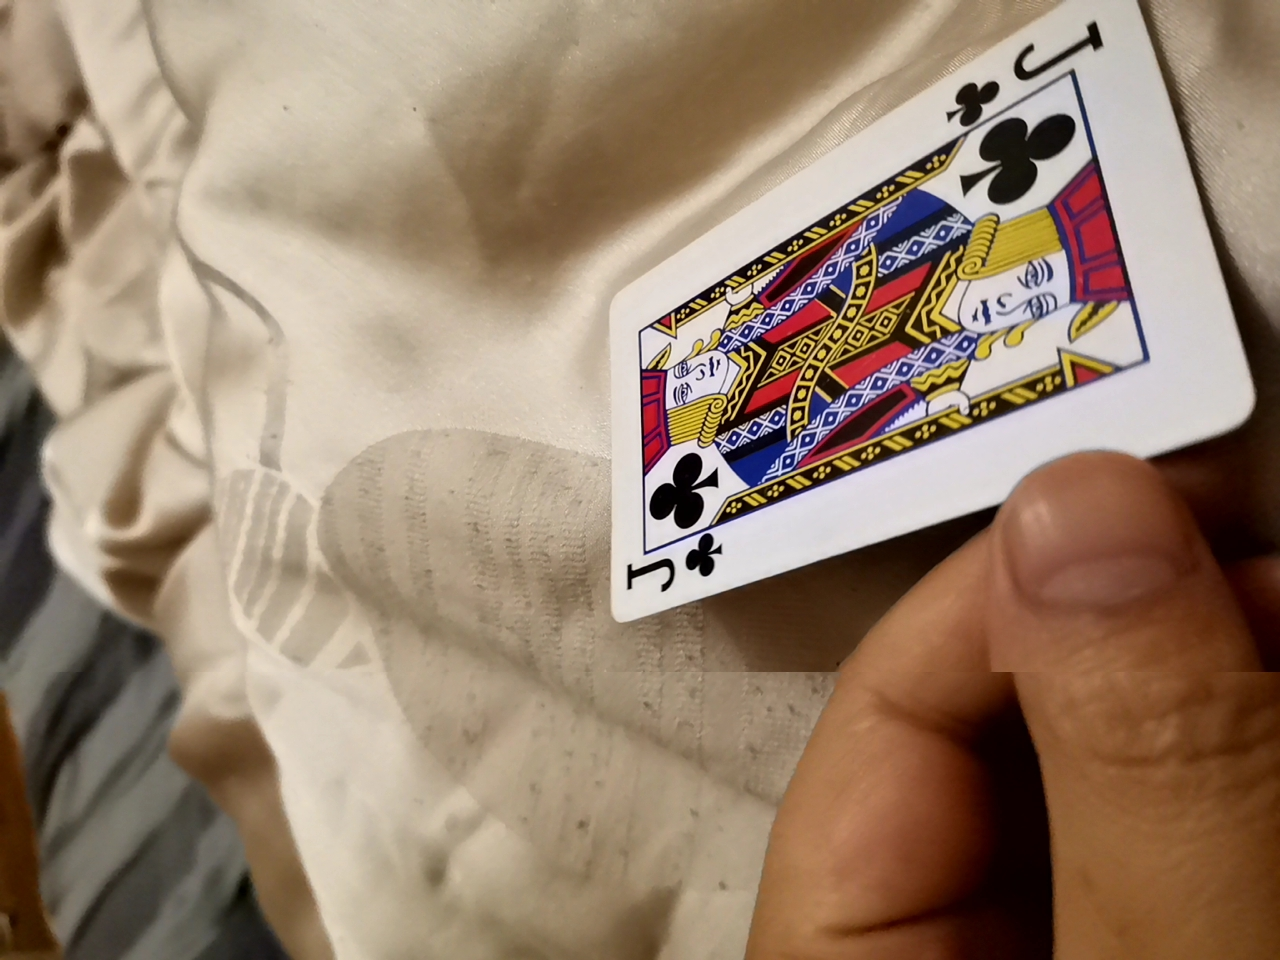mh j: (569, 7, 1243, 642)
